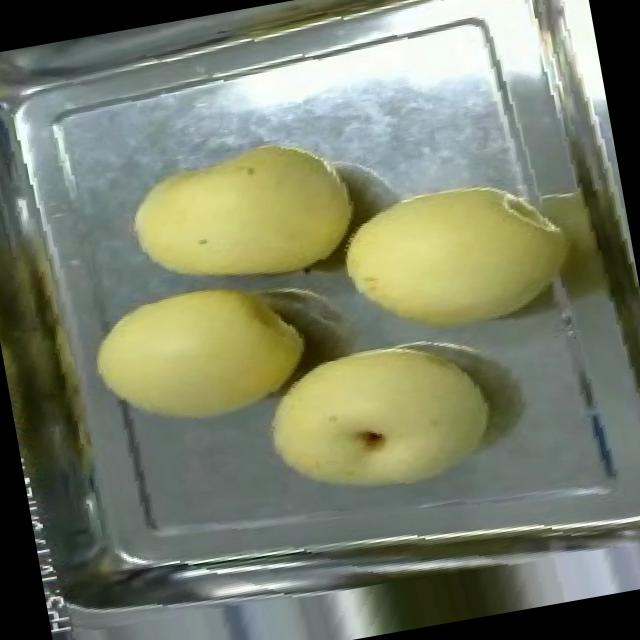Fruit: (243, 316, 510, 523), (318, 159, 572, 364), (111, 120, 373, 318), (72, 256, 325, 448)
